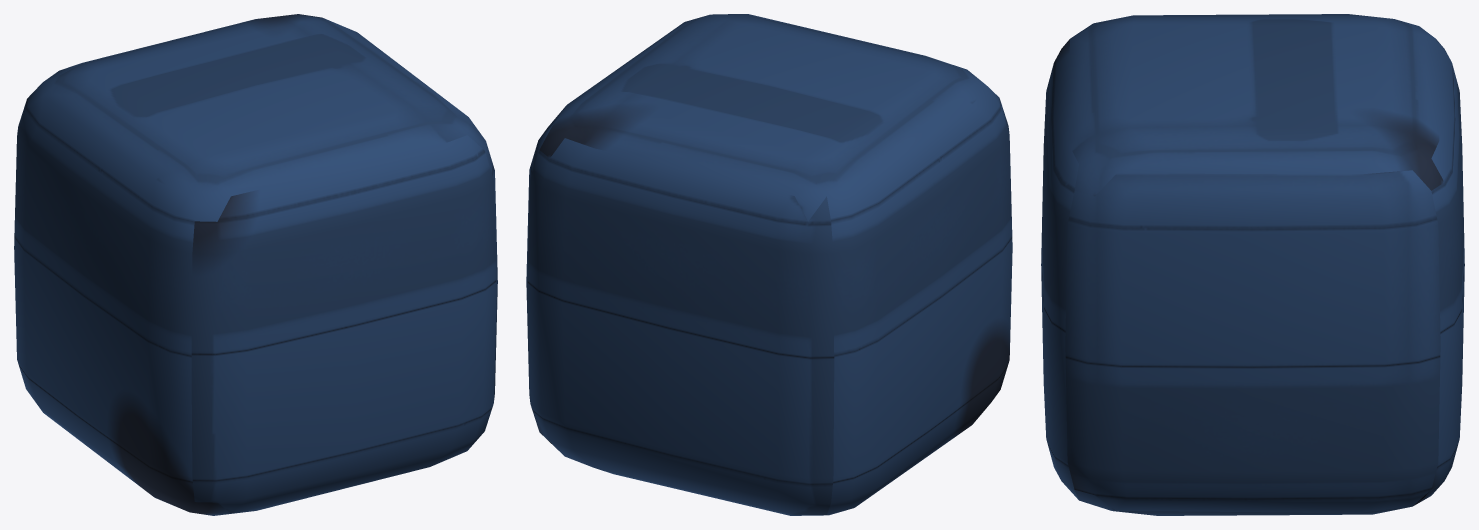
File: Tano_MangaArribaIzq.fbx
3 renders of one model, left to right at view 1: azimuth 30°, elevation 25°; view 2: azimuth 150°, elevation 25°; view 3: azimuth 270°, elevation 25°, orthographic. The views are drawn at different scales.
Visible parts, largest first — view 1: Tano_MangaArribaIzq; view 2: Tano_MangaArribaIzq; view 3: Tano_MangaArribaIzq.
Boxes of the visible parts, left/top/right/bottom form: Tano_MangaArribaIzq: left=14, top=14, right=497, bottom=515; Tano_MangaArribaIzq: left=526, top=14, right=1012, bottom=515; Tano_MangaArribaIzq: left=1041, top=14, right=1464, bottom=515.
Size of the model in its own units: 1.25 by 1.24 by 1.25.
